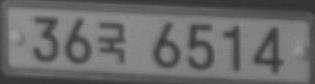1: (222, 25, 246, 69)
3: (32, 15, 58, 61)
4: (253, 26, 284, 73)
5: (187, 24, 213, 68)
6: (64, 17, 91, 64), (154, 22, 180, 67)
국: (97, 21, 126, 63)
